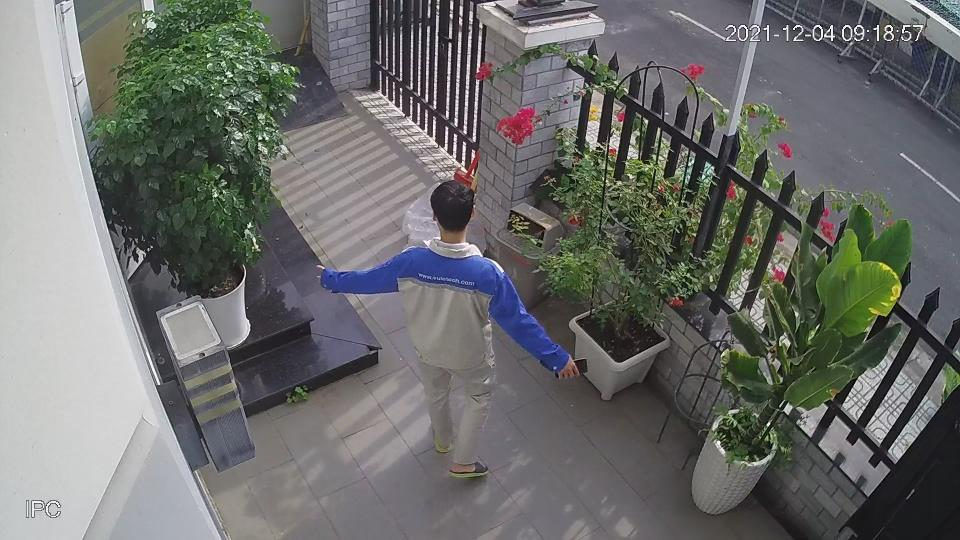person: (322, 176, 580, 481)
